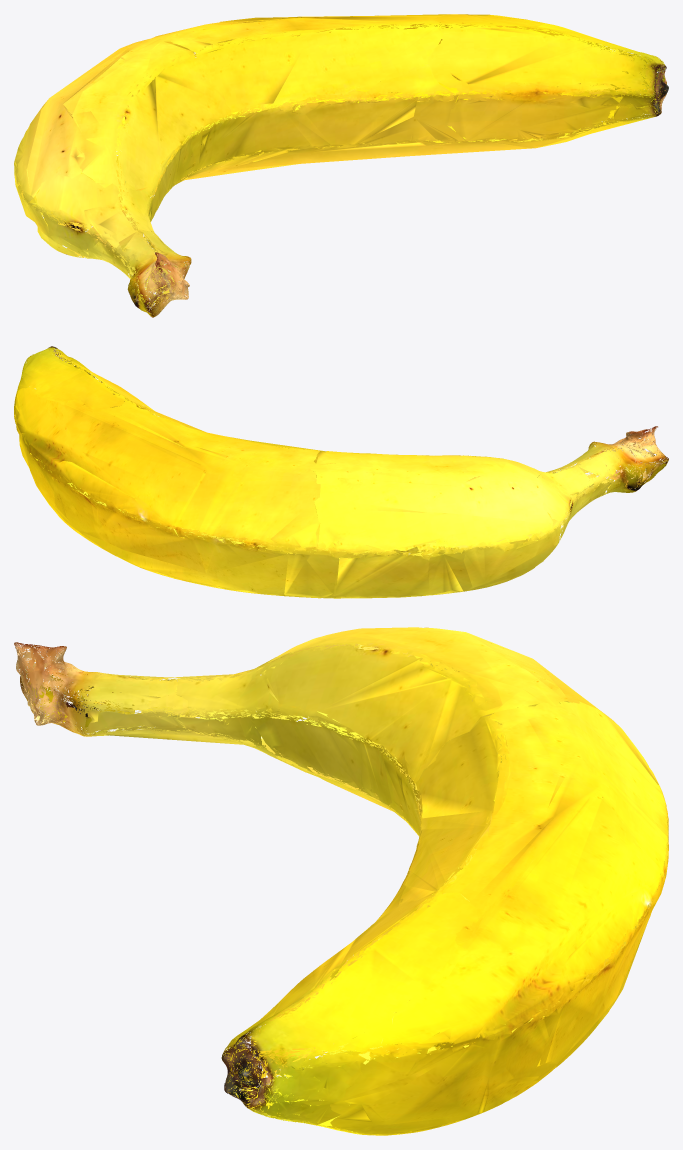
The model's file is banana_medium.glb.
The picture shows the model from 3 angles, top to bottom: view 1: azimuth 30°, elevation 25°; view 2: azimuth 150°, elevation 25°; view 3: azimuth 270°, elevation 25°; orthographic projection. The views are drawn at different scales.
Parts seen in each view (by area): view 1: Object_22; view 2: Object_22; view 3: Object_22.
Part boxes in pixels (<box>): Object_22: <box>14,14,668,317</box>; Object_22: <box>14,346,668,598</box>; Object_22: <box>14,627,668,1135</box>.
Bounding box in the file's own units: 6.78 × 1.61 × 4.44.
1 material, 1 textured.
